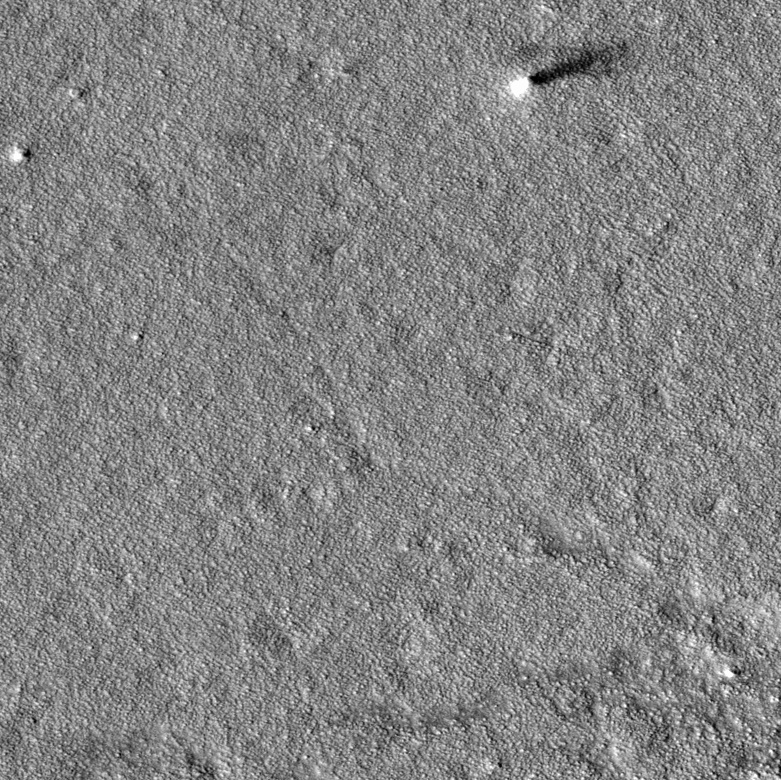dust_devil: (506, 35, 633, 100)
